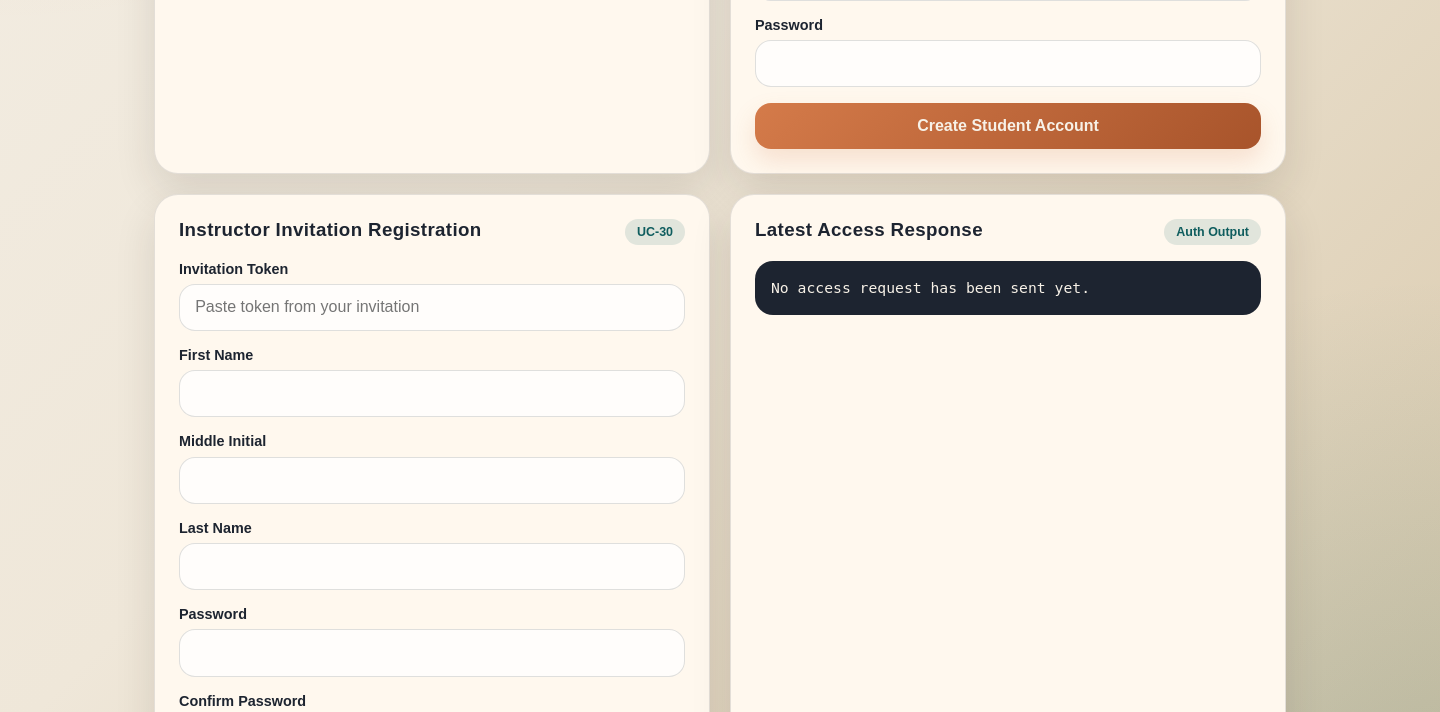
Test case: LoginView › shows a validation error when instructor password confirmation does not match
(page scrolled)
Step 1. Type "instructor-token-123" into the field labelled "Invitation Token" → {"x": 432, "y": 308}, box [179,284,685,331]
Step 2. Type "Casey" into the field labelled "First Name" → {"x": 432, "y": 394}, box [179,370,685,417]
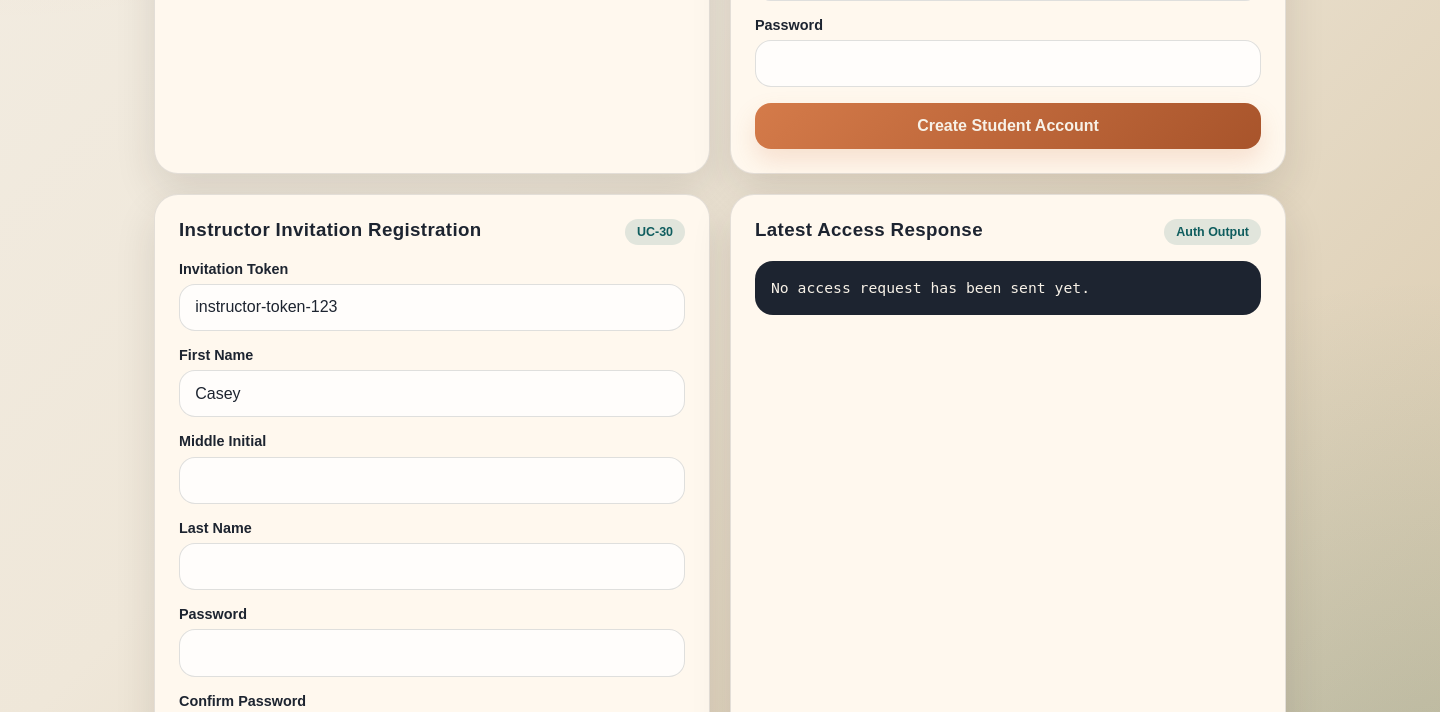
Step 3. Type "Q" into the field labelled "Middle Initial" → {"x": 432, "y": 480}, box [179,457,685,504]
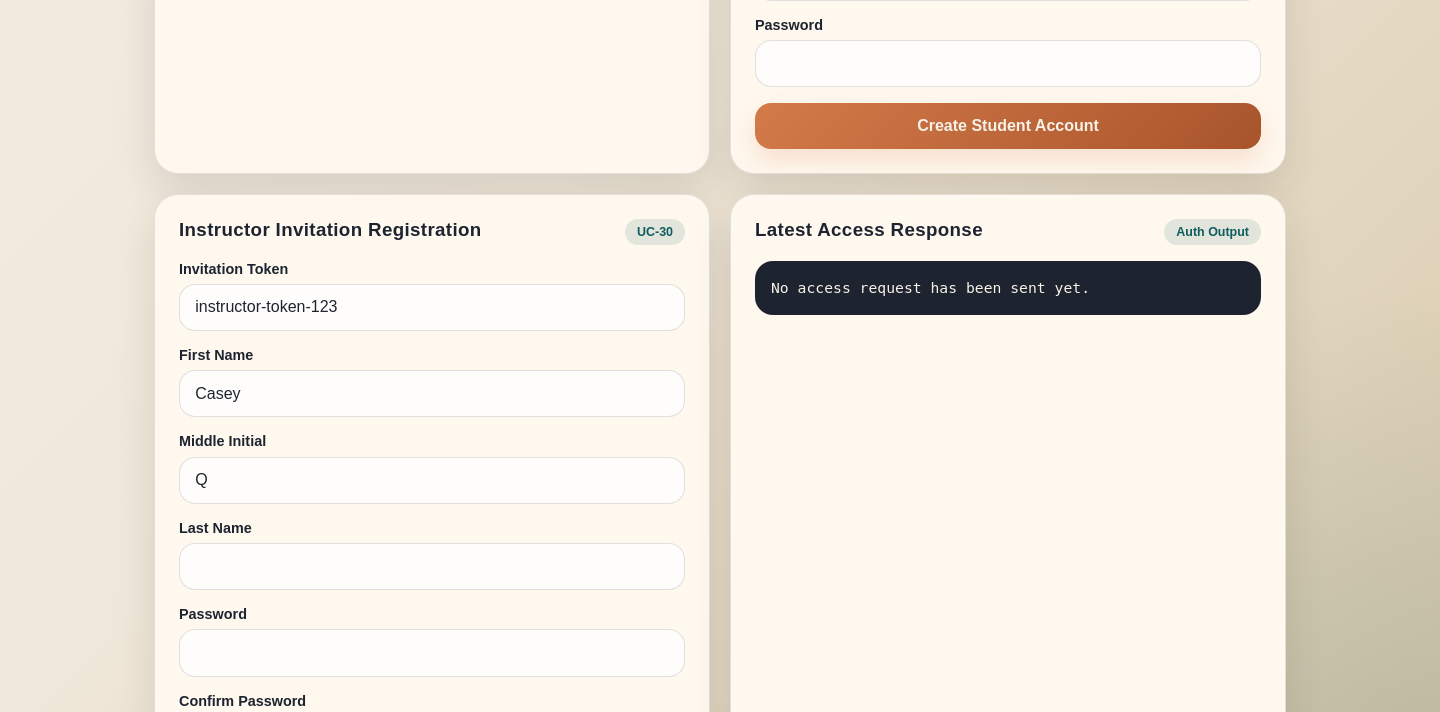
Step 4. Type "Jones" into the field labelled "Last Name" below "Middle Initial" → {"x": 432, "y": 567}, box [179,543,685,590]
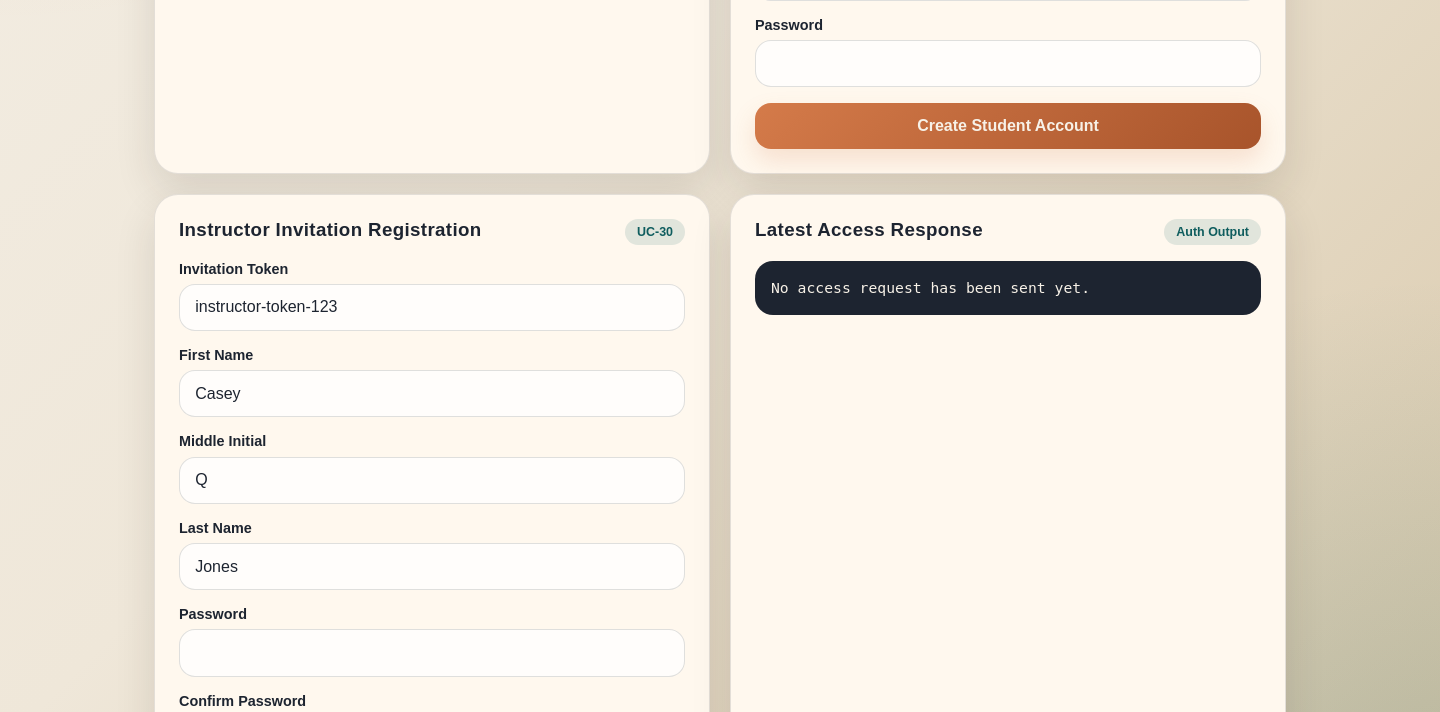
Step 5. Type "Password123!" into the password field labelled "Password" below "Middle Initial" → {"x": 432, "y": 653}, box [179,629,685,677]
(page scrolled)
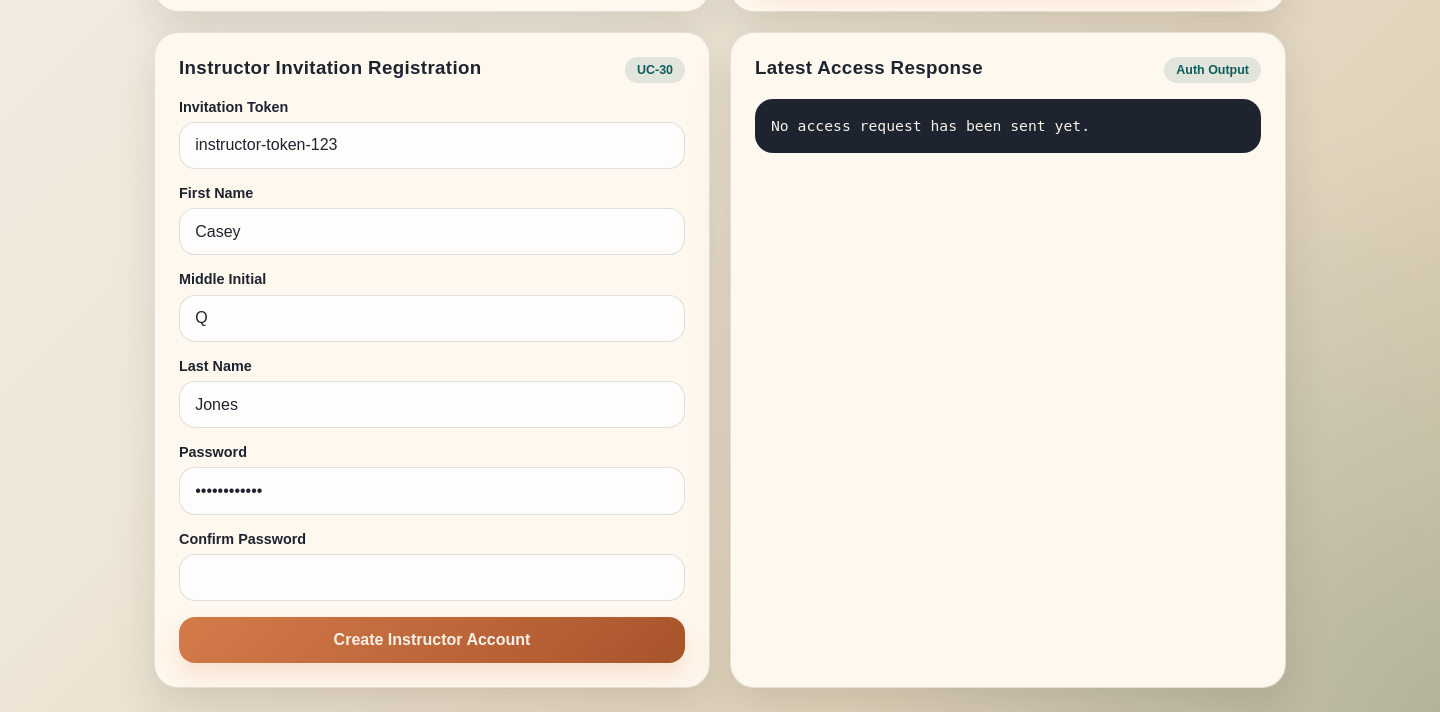
Step 6. Type "Mismatch123!" into the password field labelled "Confirm Password" → {"x": 432, "y": 577}, box [179,554,685,601]
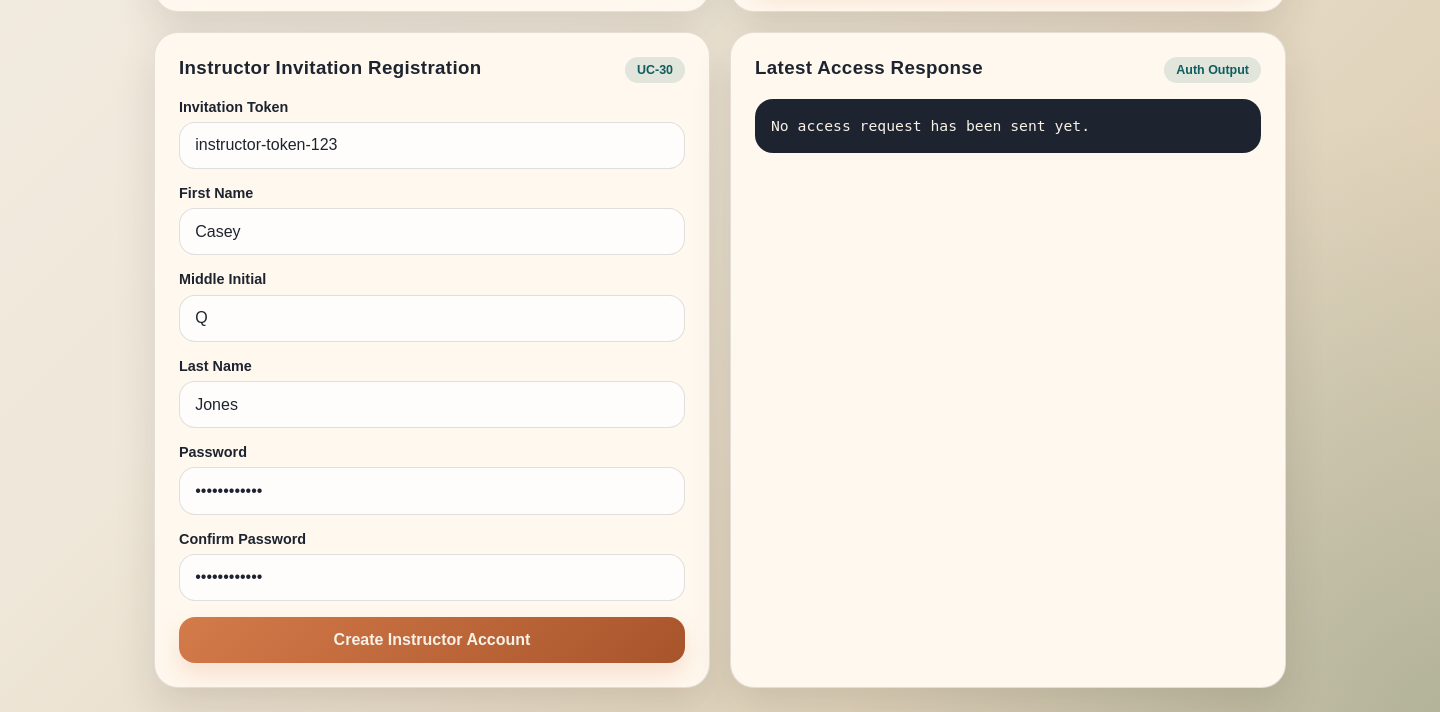
Step 7. Submit the 2nd form, box [179,99,685,663]
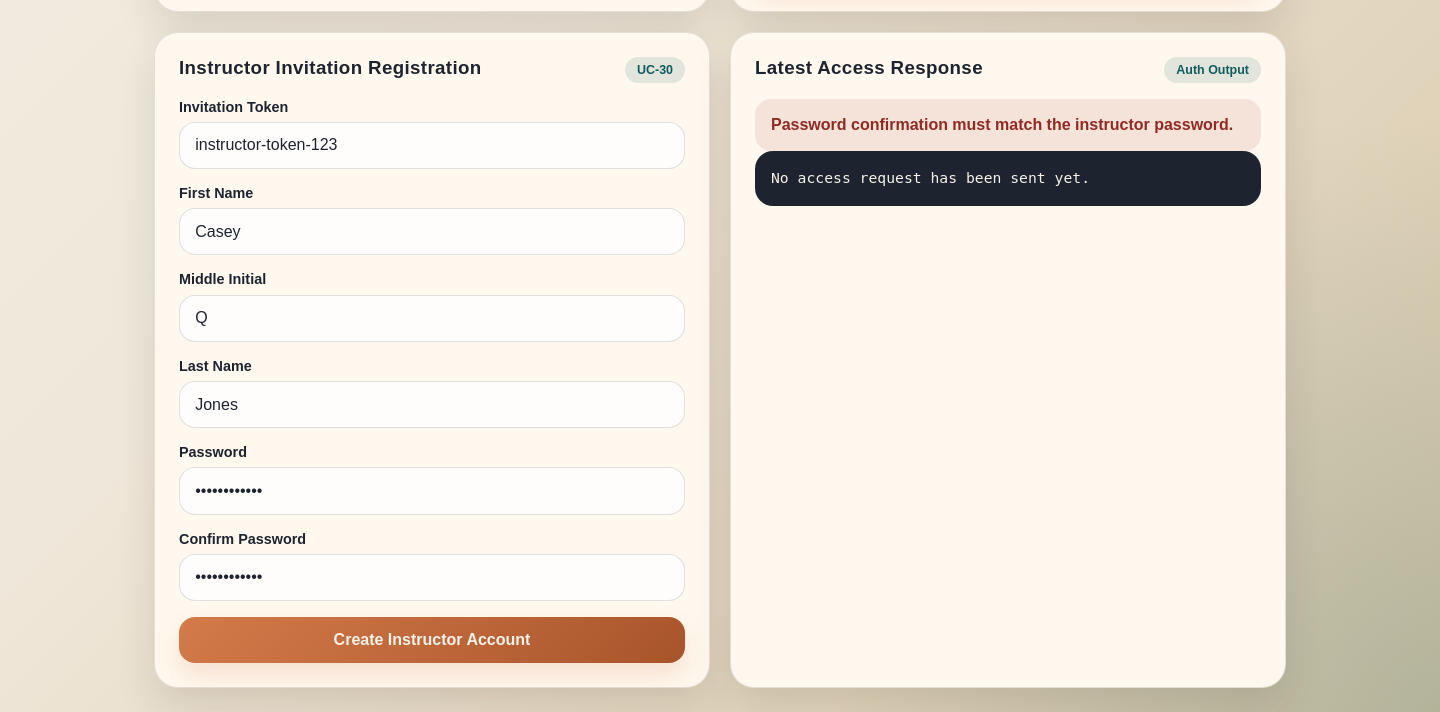
expect the text "Password confirmation must match the instructor password." is shown: met, box [755,99,1261,152]
